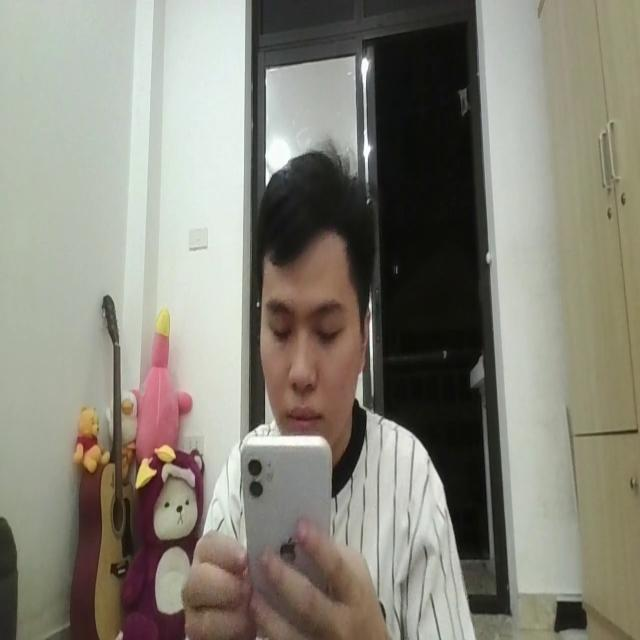phone: (239, 430, 334, 617)
student: (178, 153, 474, 640)
